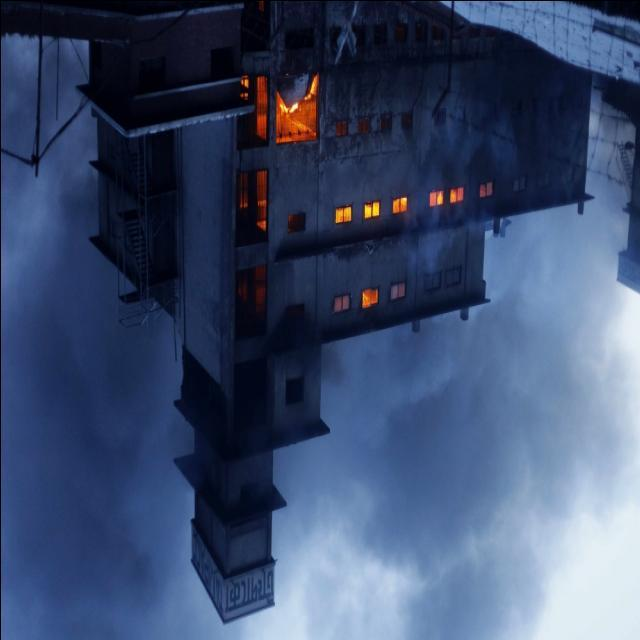Fire: (326, 186, 416, 232), (254, 76, 318, 140)
